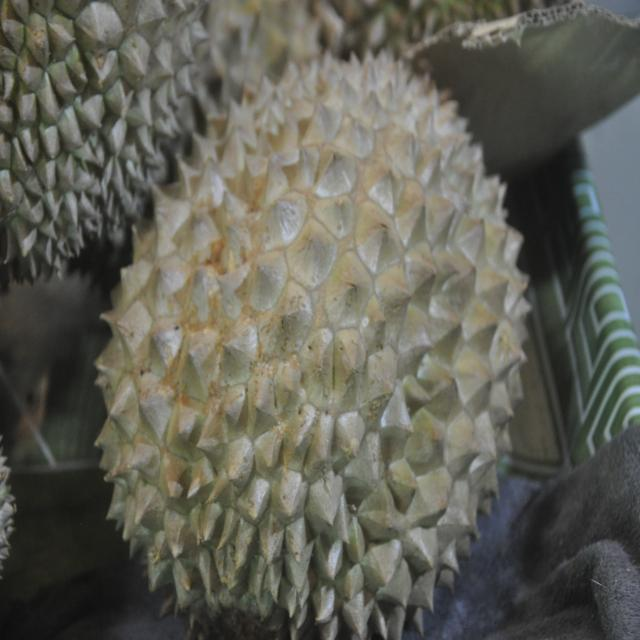mature: (90, 42, 545, 640)
